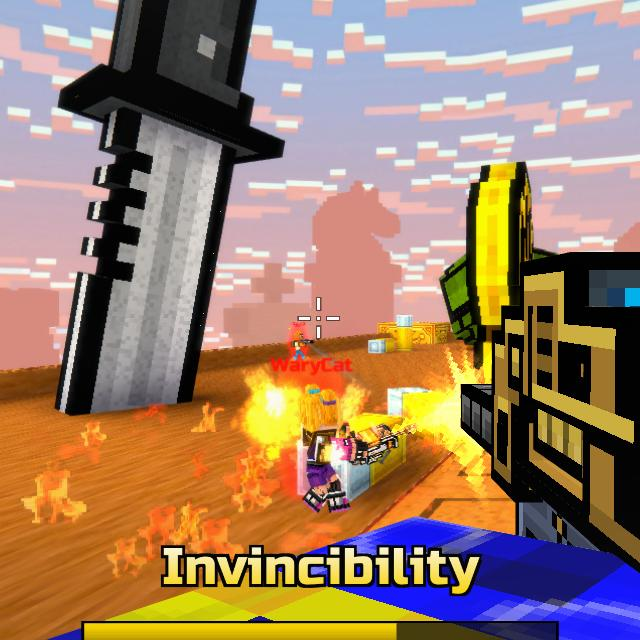Enemy: (293, 387, 357, 510), (291, 330, 311, 361)
